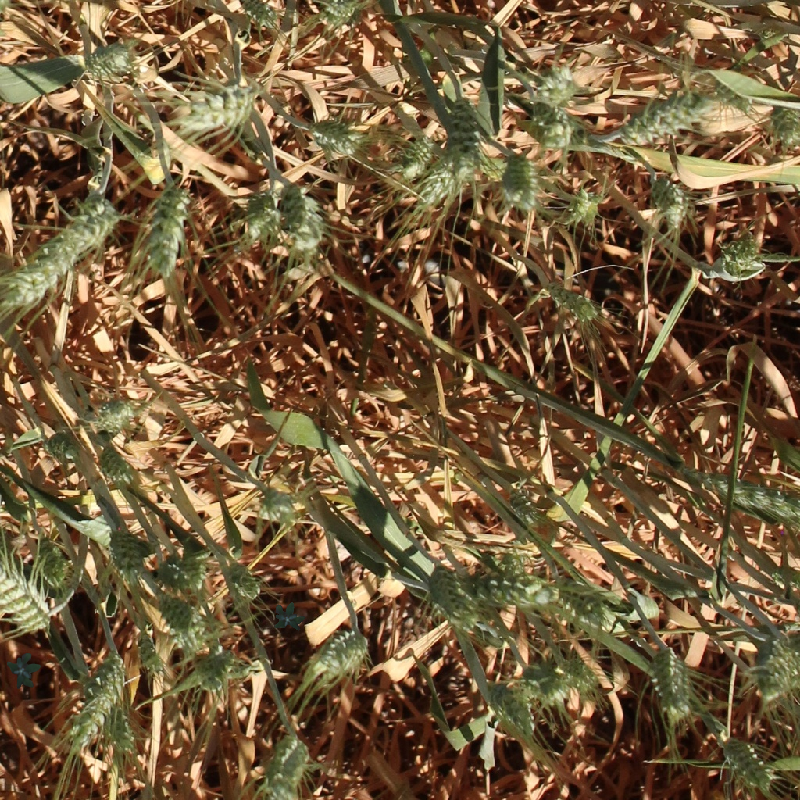spikelet: (4, 202, 113, 308), (689, 468, 799, 527), (617, 83, 720, 145), (65, 650, 125, 750), (42, 426, 135, 485), (175, 80, 262, 134), (143, 182, 192, 274), (1, 557, 52, 634), (646, 643, 695, 721), (279, 179, 327, 256), (440, 91, 487, 169), (416, 147, 477, 206), (259, 731, 311, 798), (717, 733, 775, 791), (479, 678, 536, 736), (311, 625, 370, 681), (750, 632, 799, 699), (552, 577, 615, 629), (704, 235, 768, 283), (156, 592, 209, 647), (541, 279, 603, 324), (526, 99, 578, 150), (424, 567, 473, 621), (498, 150, 542, 209), (521, 657, 573, 705), (647, 174, 694, 226), (308, 114, 364, 156), (31, 533, 72, 589), (105, 526, 150, 577), (530, 62, 578, 109), (217, 553, 263, 602), (241, 186, 282, 240), (81, 40, 135, 81), (251, 481, 301, 525), (192, 645, 238, 692), (159, 549, 209, 591), (92, 442, 137, 486), (394, 131, 435, 179), (502, 478, 542, 526), (554, 651, 600, 692), (90, 394, 138, 433), (133, 621, 165, 677), (105, 703, 138, 754), (765, 101, 800, 149), (563, 185, 603, 227), (236, 1, 282, 30), (319, 1, 362, 29)
weed: (267, 596, 311, 640), (7, 653, 41, 689)
